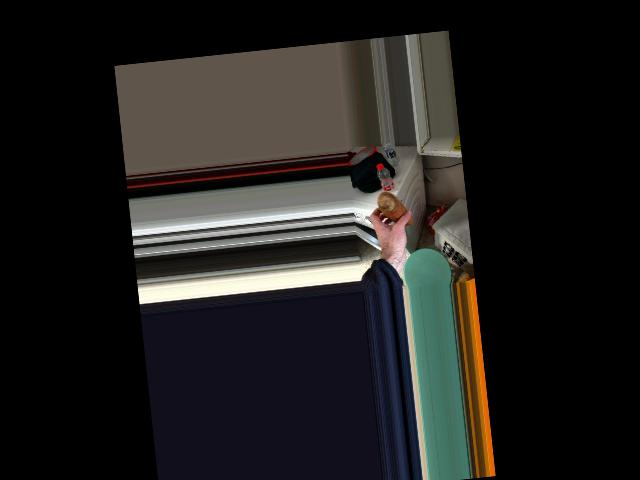sweet_potato: (379, 189, 414, 227)
